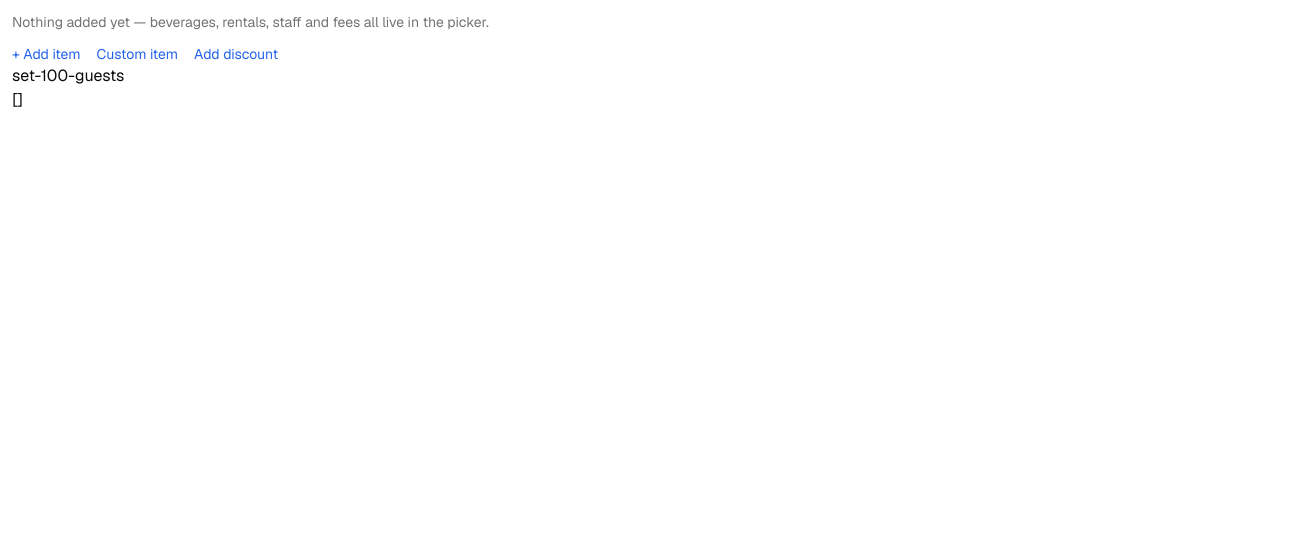
AddOnItemsEditor — the catalogue picker › a single-variant product is one row, priced from that variant
The width and height of the screenshot is (1304, 542).
What coordinates should you click on to do the following:
click the button "+ Add item"
I would click on:
 (46, 54)
Its box is [12,44,80,64].
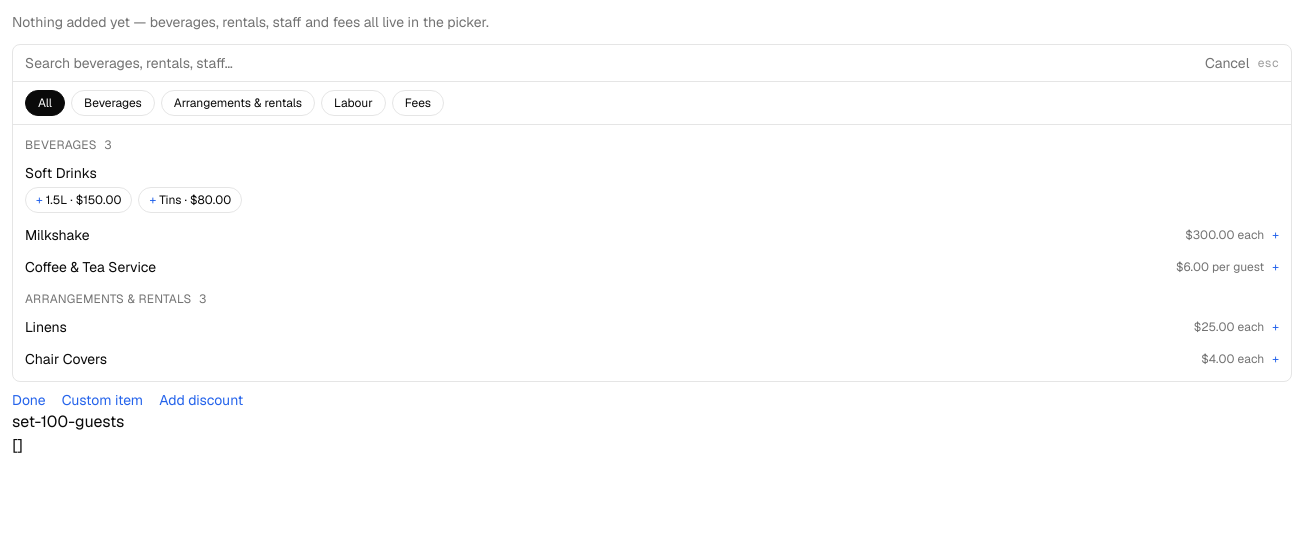
Expected: the button with aria-label "Add Chair Covers" shows "$4.00 each"
What coordinates should you click on to do the following:
click the button with aria-label "Add Chair Covers"
I would click on:
 (66, 359)
Its box is [13,343,1291,375].
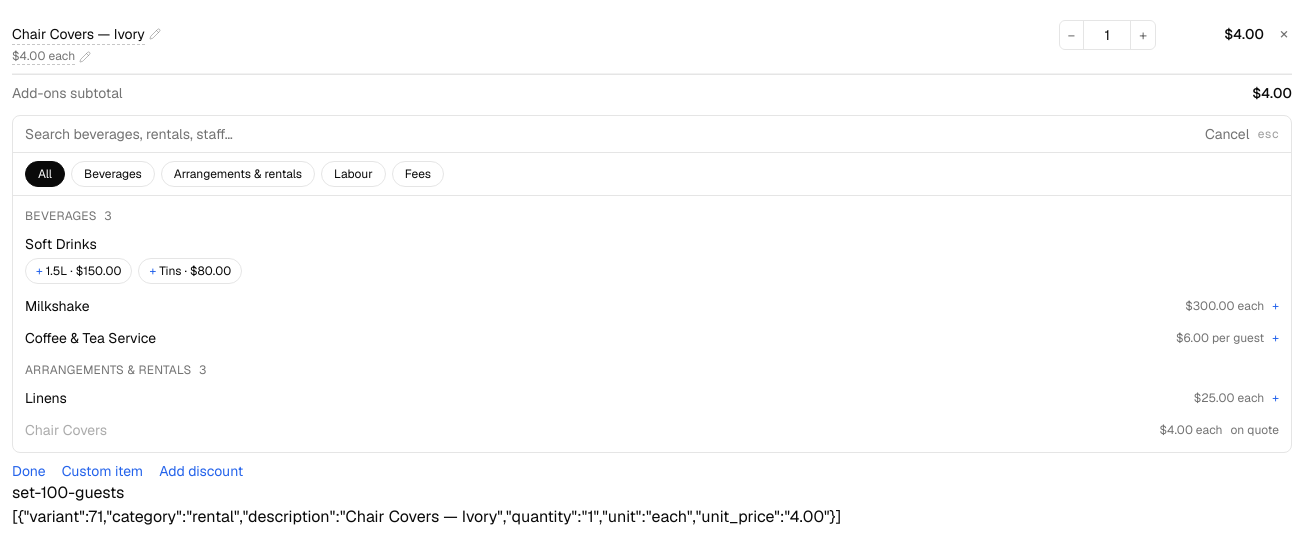
Expected: the button with aria-label "Chair Covers — already on quote" is disabled, [13,414,1291,446]
